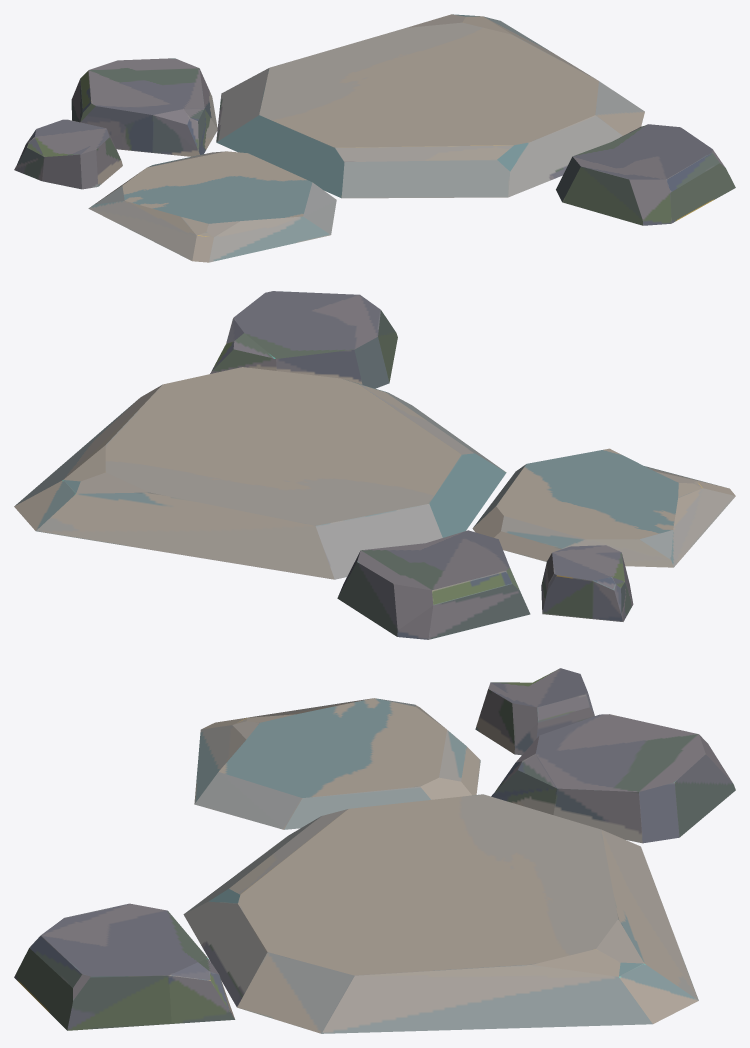
The model's file is rack03.fbx.
3 views of the same model, one above another, from view 1: azimuth 30°, elevation 25°; view 2: azimuth 150°, elevation 25°; view 3: azimuth 270°, elevation 25° (orthographic). The views are drawn at different scales.
Parts seen in each view (by area): view 1: ROCK03; view 2: ROCK03; view 3: ROCK03.
Part boxes in pixels (left/top/right/bottom): ROCK03: left=14, top=14, right=735, bottom=262; ROCK03: left=14, top=291, right=735, bottom=639; ROCK03: left=14, top=668, right=735, bottom=1033.
Size of the model in its own units: 298 by 18.92 by 272.
Materials: 1 (1 with a texture image).
